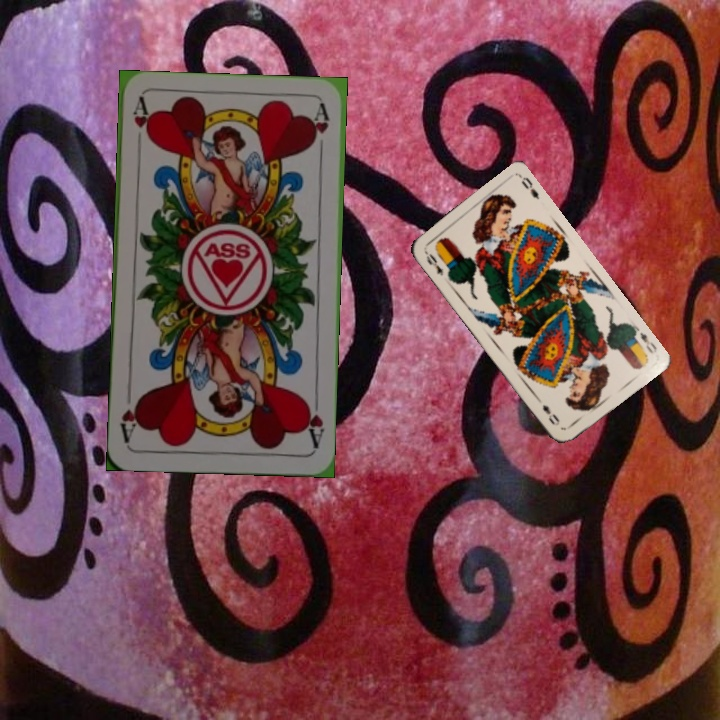EO: (629, 323, 660, 359), (420, 246, 446, 278)
HA: (300, 391, 326, 451), (129, 95, 152, 142)
